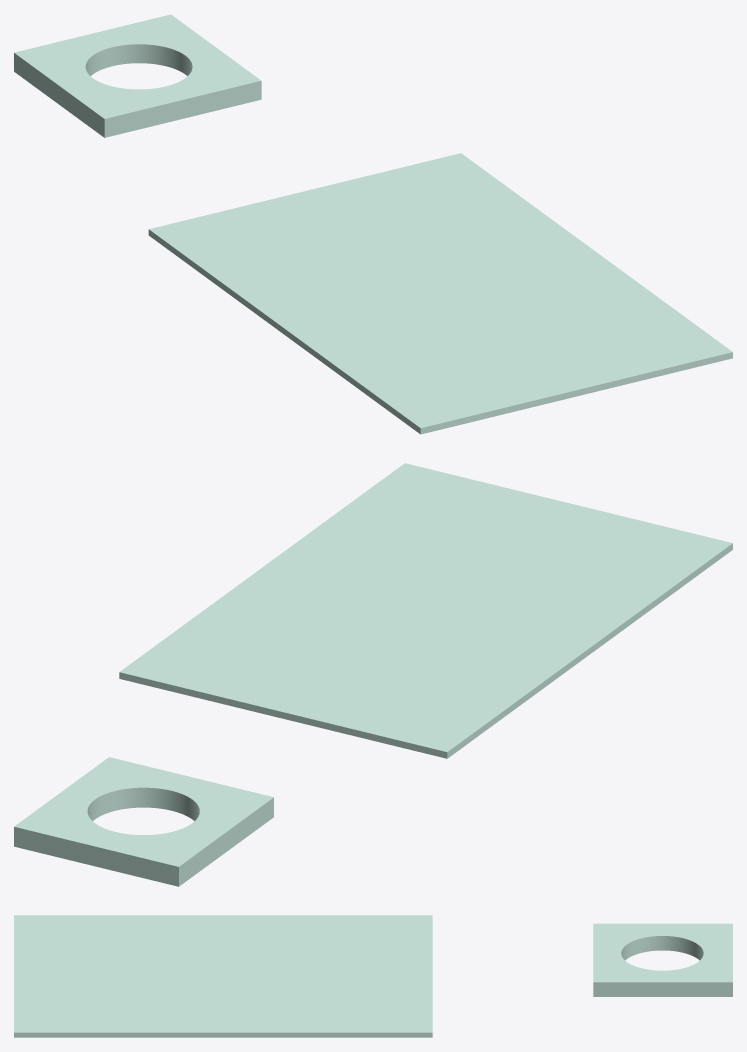
3 renders of one model, top to bottom at view 1: azimuth 30°, elevation 25°; view 2: azimuth 150°, elevation 25°; view 3: azimuth 270°, elevation 25°, orthographic. The views are drawn at different scales.
Parts seen in each view (by area): view 1: Renderer Node; view 2: Renderer Node; view 3: Renderer Node.
Boxes of the visible parts, x1=… form: Renderer Node: x1=14, y1=14, x2=732, y2=434; Renderer Node: x1=14, y1=463, x2=732, y2=886; Renderer Node: x1=14, y1=915, x2=732, y2=1037.
Bounding box in the file's own units: 0.4041 × 0.0313 × 1.05.
